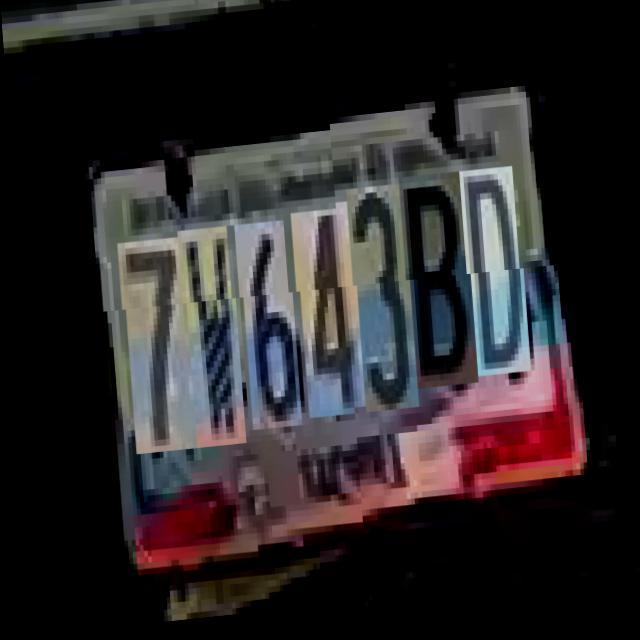3: (347, 198, 413, 426)
4: (290, 214, 360, 424)
6: (234, 226, 296, 434)
7: (117, 240, 190, 456)
B: (399, 187, 472, 403)
D: (460, 182, 525, 392)
W: (177, 230, 239, 451)
